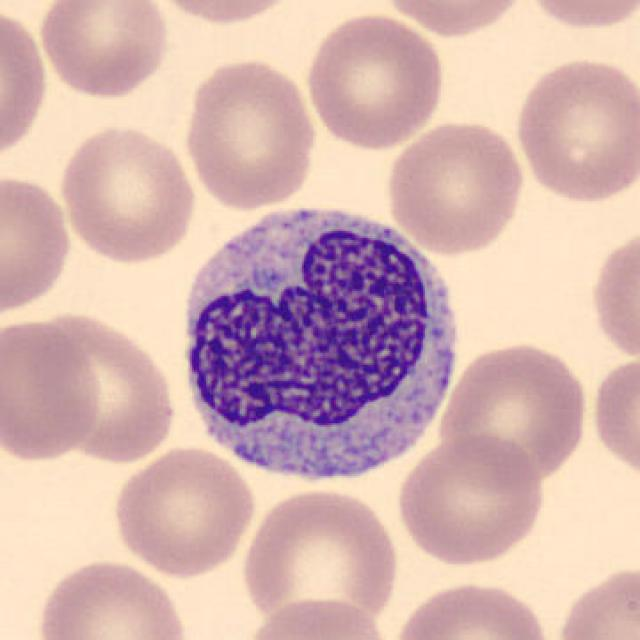Monocyte: (169, 190, 471, 498)
RBC: (25, 309, 179, 467), (238, 485, 404, 629), (437, 337, 592, 485), (180, 55, 320, 212), (393, 430, 549, 568), (55, 120, 199, 266), (302, 8, 448, 152), (382, 116, 528, 258), (108, 444, 258, 578), (510, 53, 638, 206), (0, 316, 105, 464), (30, 555, 194, 640), (33, 0, 172, 100), (0, 169, 75, 319), (387, 576, 554, 640), (0, 6, 52, 168), (238, 592, 398, 640), (587, 220, 638, 370), (551, 559, 638, 640), (588, 351, 638, 488), (377, 0, 531, 41), (142, 0, 306, 28), (519, 0, 638, 33)
